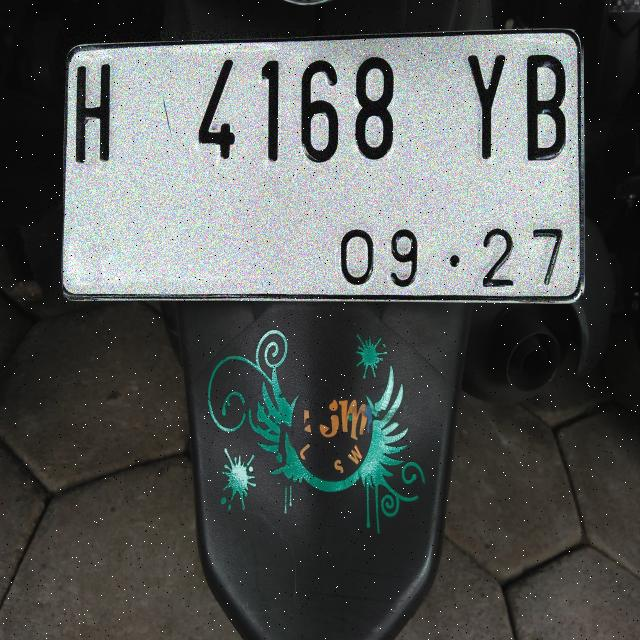plate: (63, 32, 581, 300)
